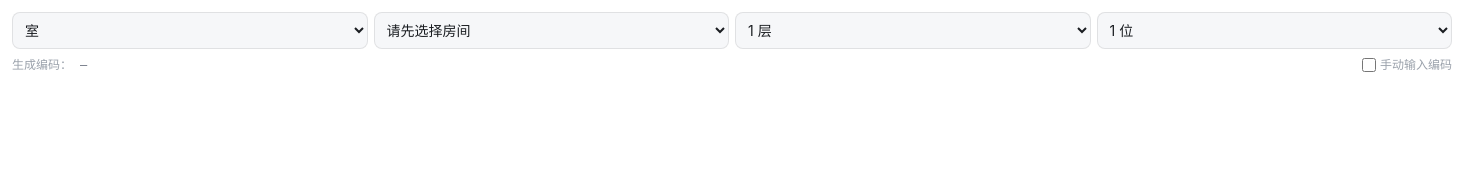
it: 库位选择器（LocationPicker） › 布局接口不可用时回退到兜底房间列表
Select "1012" in the dropdown named "房间". click: coordinates (190, 30)
box: [12,12,368,49]
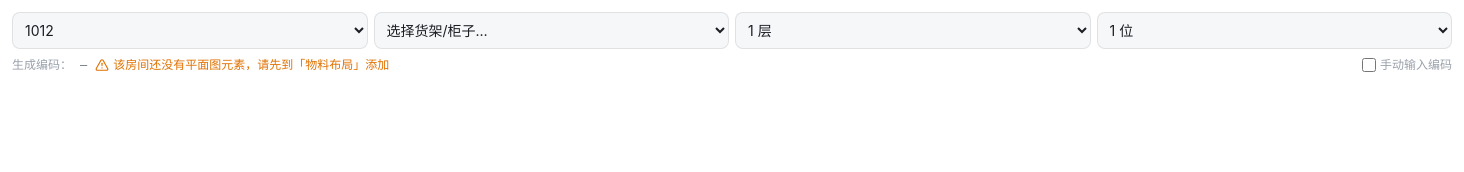
expect the text "该房间还没有平面图元素，请先到「物料布局」添加" is shown: met, box [95,57,389,73]
